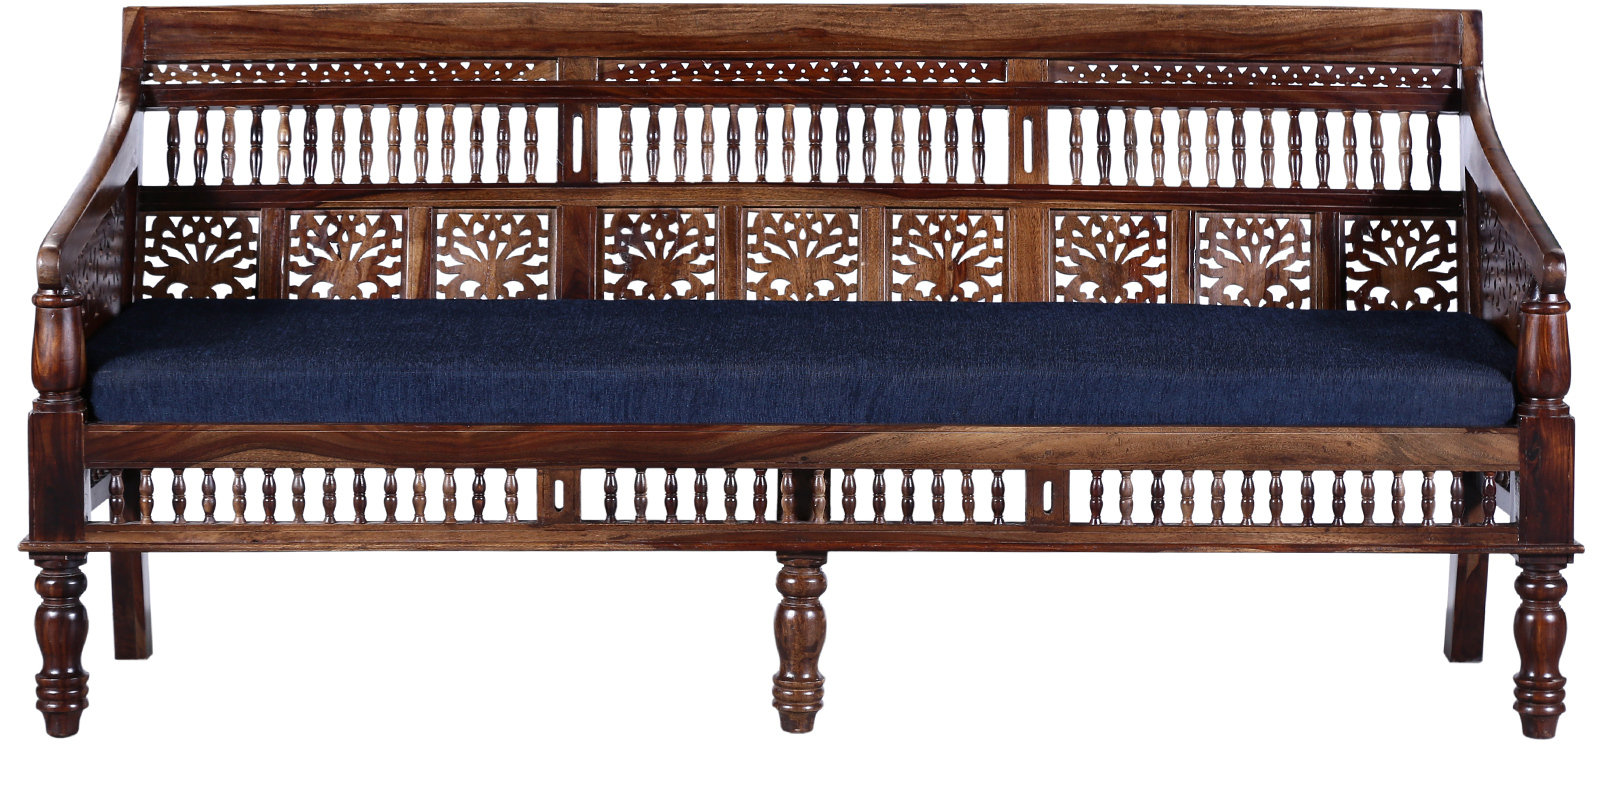Maurya Handcrafted Three Seater Sofa in Provincial Teak Finish by Mudramark: (20, 1, 1587, 737)
